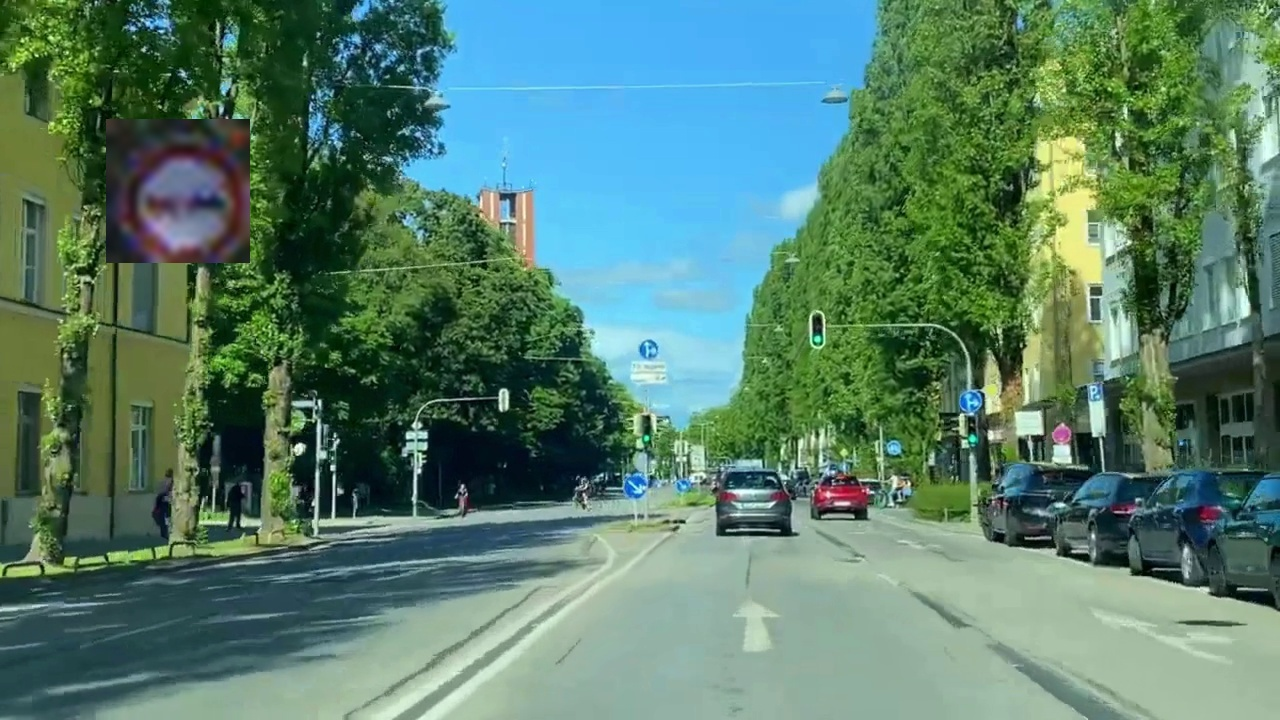No passing: (106, 119, 250, 263)
